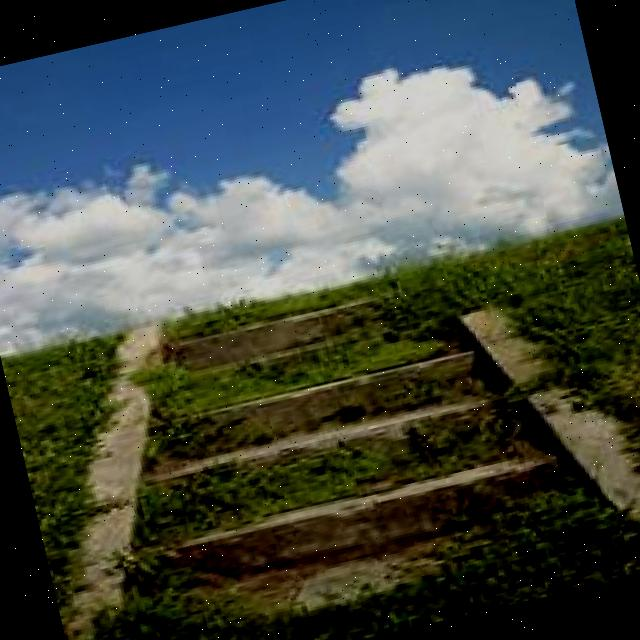stairs: (90, 265, 640, 640)
